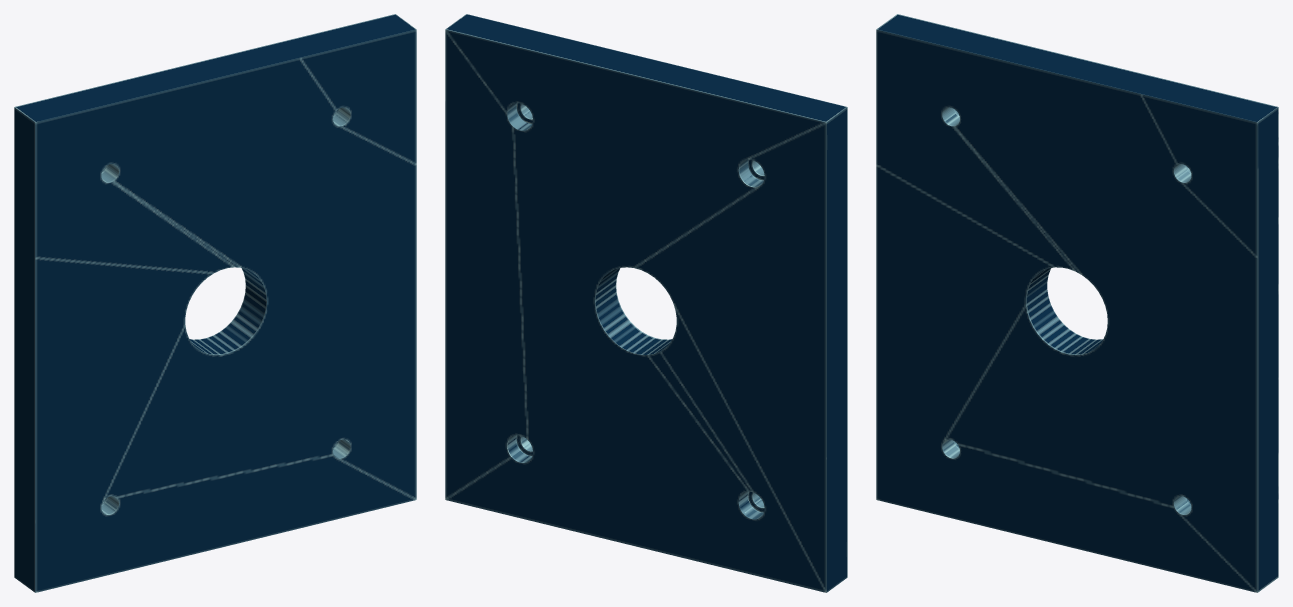
File: Mold3-Bottom clamping plate-M.glb
The picture shows the model from 3 angles, left to right: view 1: azimuth 30°, elevation 25°; view 2: azimuth 150°, elevation 25°; view 3: azimuth 330°, elevation 25°; orthographic projection.
Parts seen in each view (by area): view 1: semelle inférieur; view 2: semelle inférieur; view 3: semelle inférieur.
Boxes of the visible parts, x1,y1,x2,y2 form: semelle inférieur: (14,14,416,592); semelle inférieur: (445,14,847,592); semelle inférieur: (876,14,1278,592).
Bounding box in the file's own units: 11.58 × 13.65 × 1.12.
Materials: 1 (1 with a texture image).
